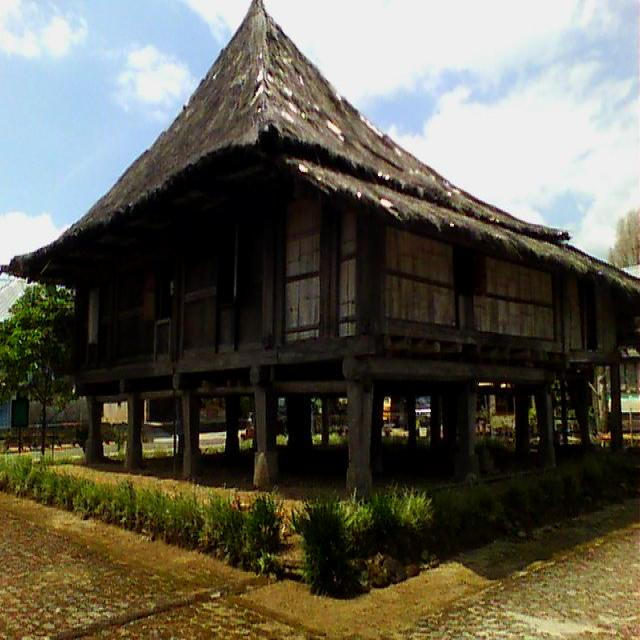Atap: (2, 0, 639, 300)
